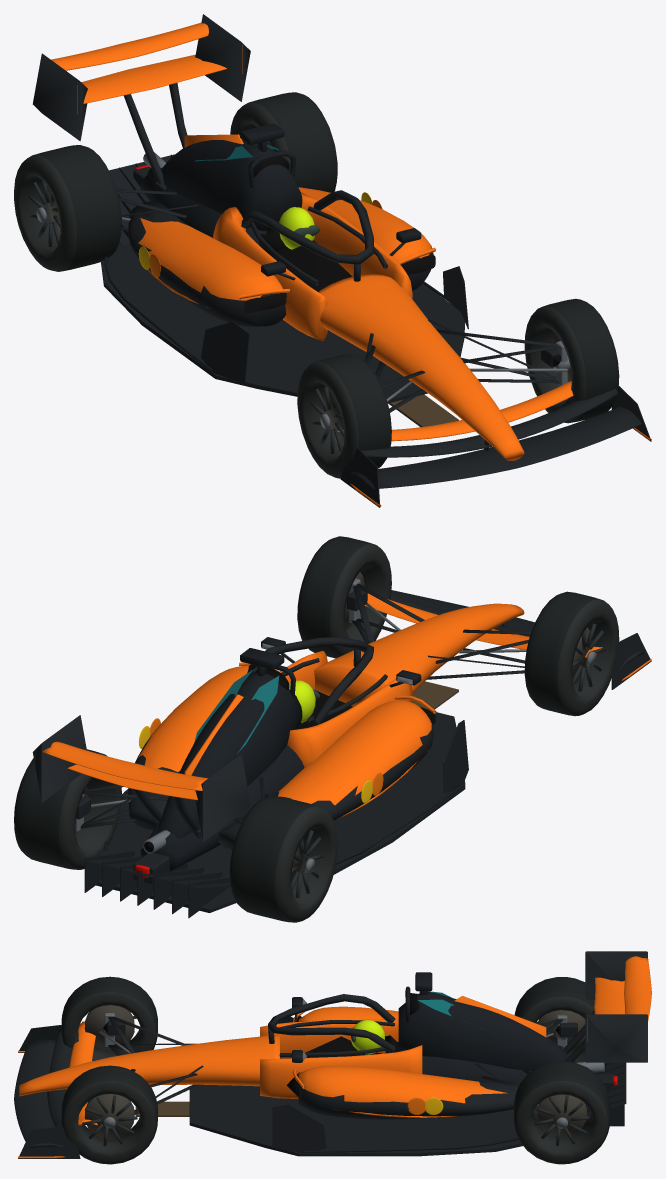
The model's file is mcl40-lod2.glb.
3 renders of one model, top to bottom at view 1: azimuth 30°, elevation 25°; view 2: azimuth 150°, elevation 25°; view 3: azimuth 270°, elevation 25°, orthographic. The views are drawn at different scales.
Parts seen in each view (by area): view 1: L2_Chassis, L2_Wheel_RL, L2_Wheel_FL, L2_Wheel_FR, L2_Wheel_RR; view 2: L2_Chassis, L2_Wheel_RL, L2_Wheel_FL, L2_Wheel_RR, L2_Wheel_FR; view 3: L2_Chassis, L2_Wheel_RR, L2_Wheel_FR, L2_Wheel_FL, L2_Wheel_RL.
Part boxes in pixels (x1,y1,x2,y2): L2_Chassis: [32, 14, 651, 507]; L2_Wheel_RL: [14, 145, 121, 271]; L2_Wheel_FL: [297, 354, 391, 478]; L2_Wheel_FR: [524, 298, 619, 423]; L2_Wheel_RR: [230, 92, 337, 192]; L2_Chassis: [32, 572, 651, 918]; L2_Wheel_RL: [229, 795, 337, 922]; L2_Wheel_FL: [524, 591, 619, 716]; L2_Wheel_RR: [14, 749, 121, 869]; L2_Wheel_FR: [297, 536, 391, 658]; L2_Chassis: [14, 951, 651, 1158]; L2_Wheel_RR: [513, 1061, 610, 1164]; L2_Wheel_FR: [61, 1065, 157, 1164]; L2_Wheel_FL: [61, 976, 157, 1061]; L2_Wheel_RL: [514, 977, 594, 1062].
Size of the model in its own units: 1.9 by 1.13 by 4.8.
